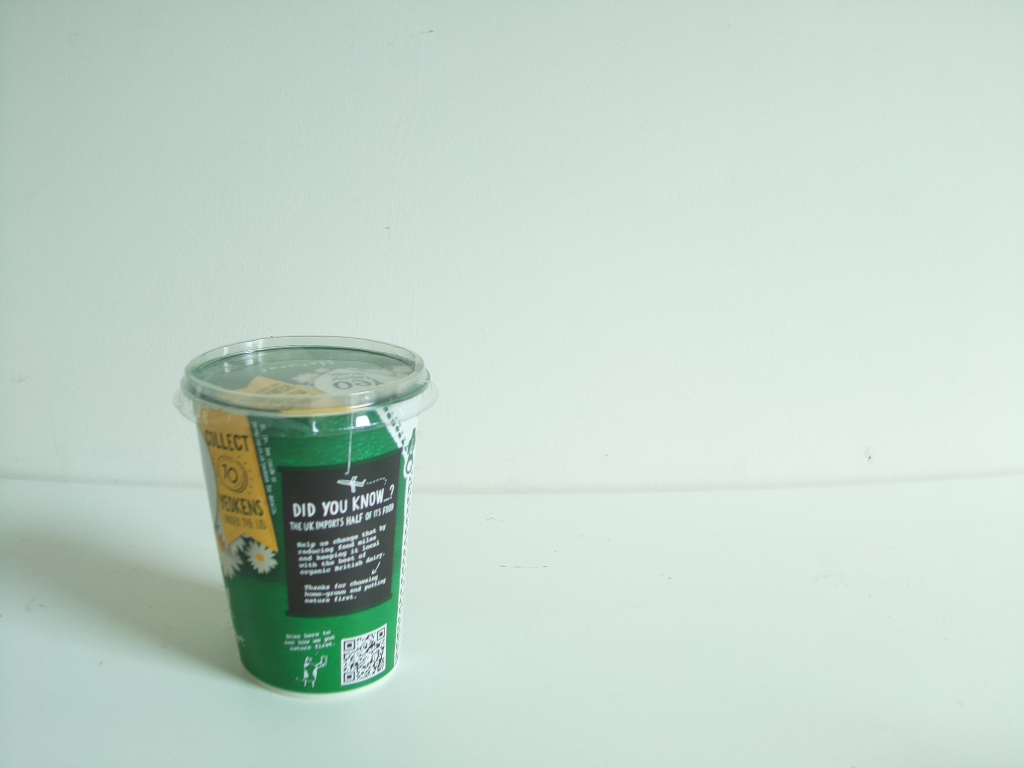yogurt: (166, 328, 442, 703)
